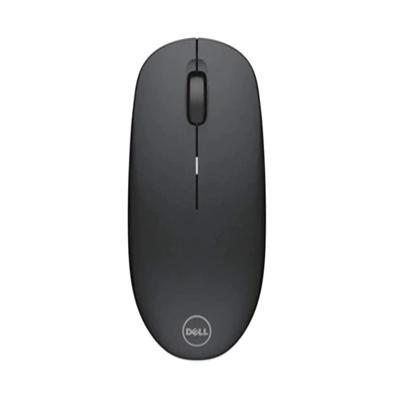not trash: (128, 34, 270, 358)
